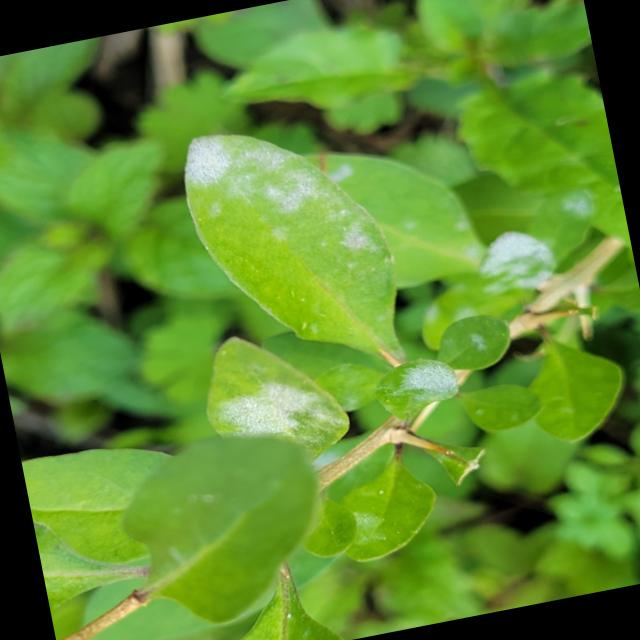powdery_mildew: (186, 135, 405, 363), (207, 337, 349, 458), (376, 360, 458, 419)
